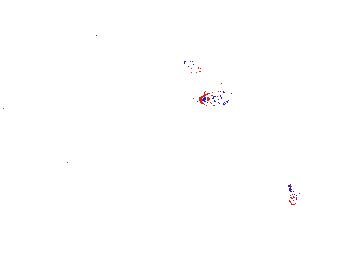X-ray fish: (97, 104, 135, 136)
red belly glassfish: (194, 88, 240, 109), (181, 57, 203, 76), (286, 182, 301, 207)
